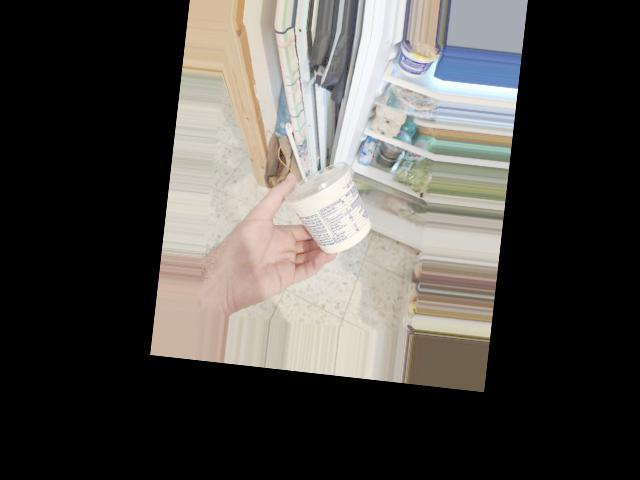cotage: (287, 153, 365, 244)
